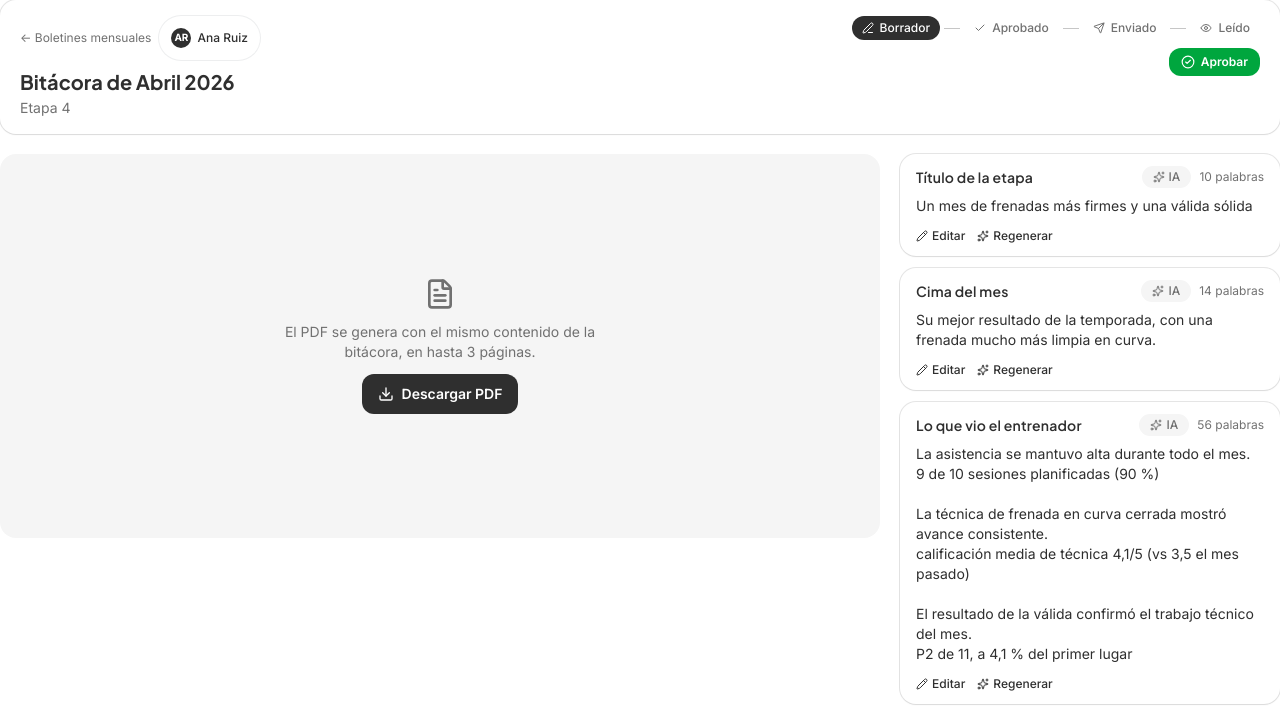
AthleteNewsletterStudioPage › editar un bloque actualiza el preview de forma optimista y dispara el PATCH
This screenshot has width=1280, height=712.
Expected: the element with test id "block-card-header" is shown, top-left (900, 154), bottom-right (1279, 256)
Click the button with test id "block-edit-header".
click(941, 236)  # box top-left (916, 228), bottom-right (965, 244)
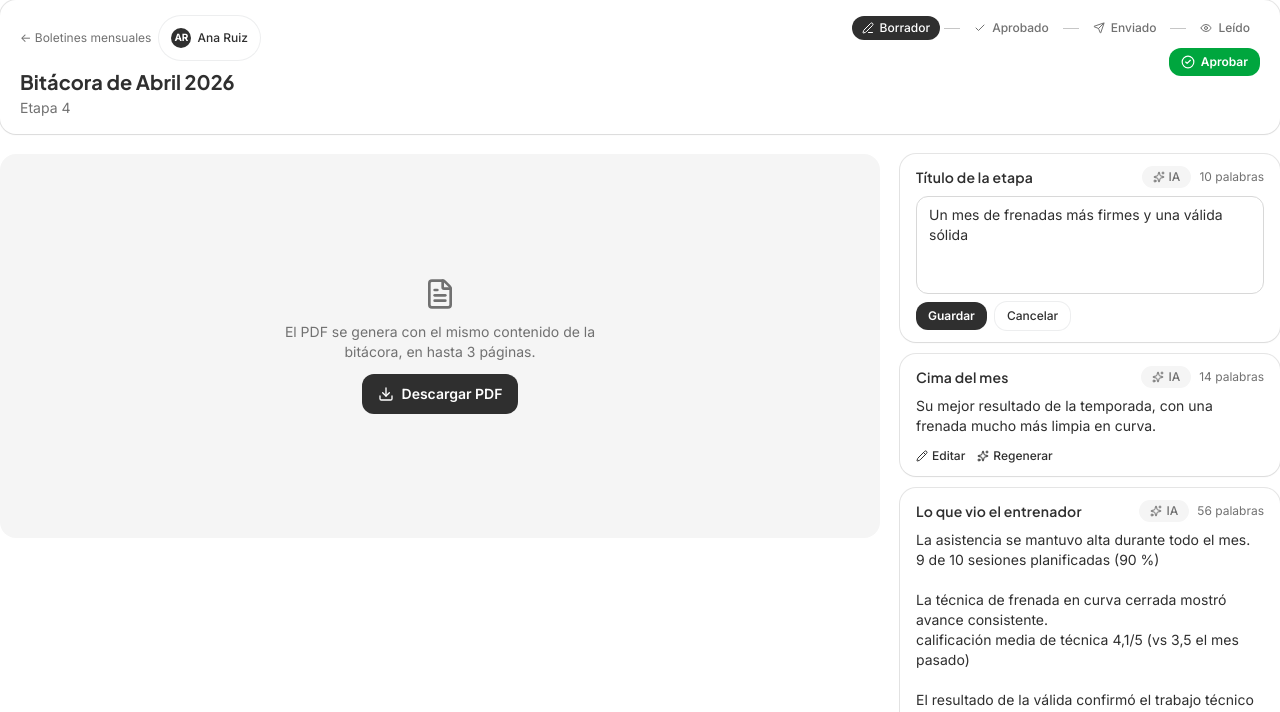
Replace the text in the text box named "Editar Título de la etapa" with "Un título editado por el coach" at (1090, 245), box top-left (916, 196), bottom-right (1264, 294)
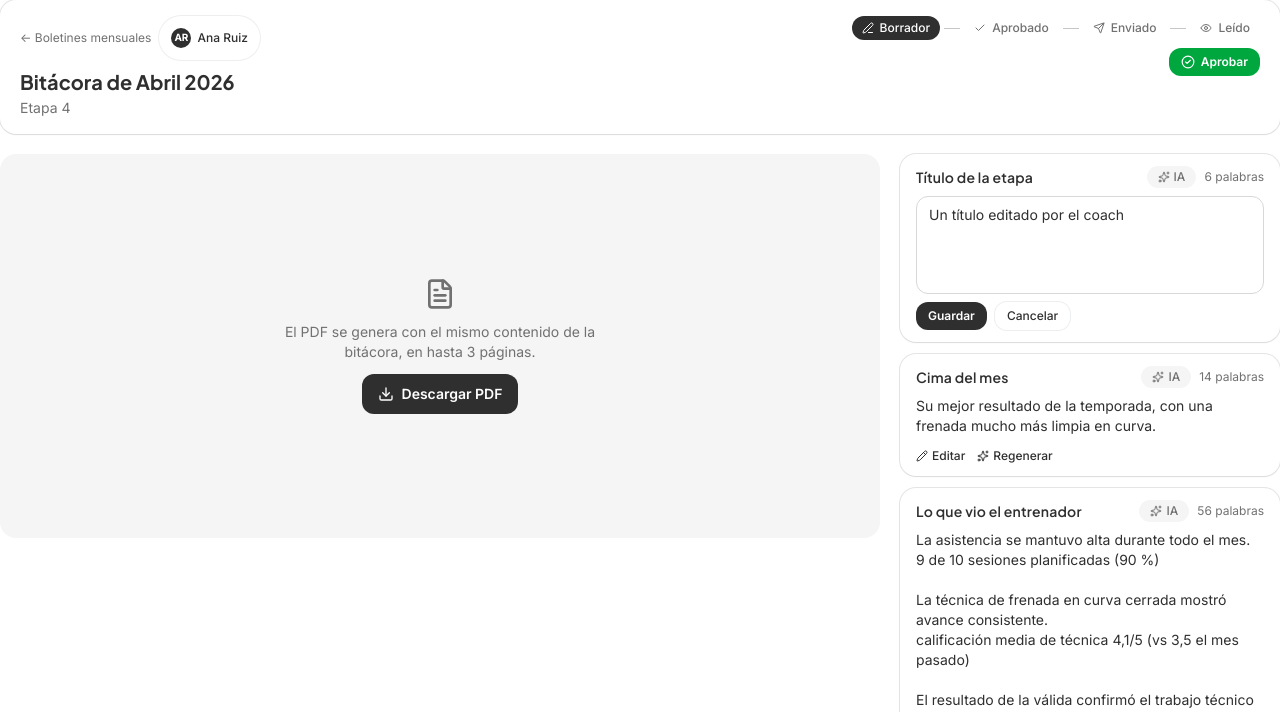
Click the button with test id "block-save-header".
click(951, 316)  # box top-left (916, 302), bottom-right (987, 330)
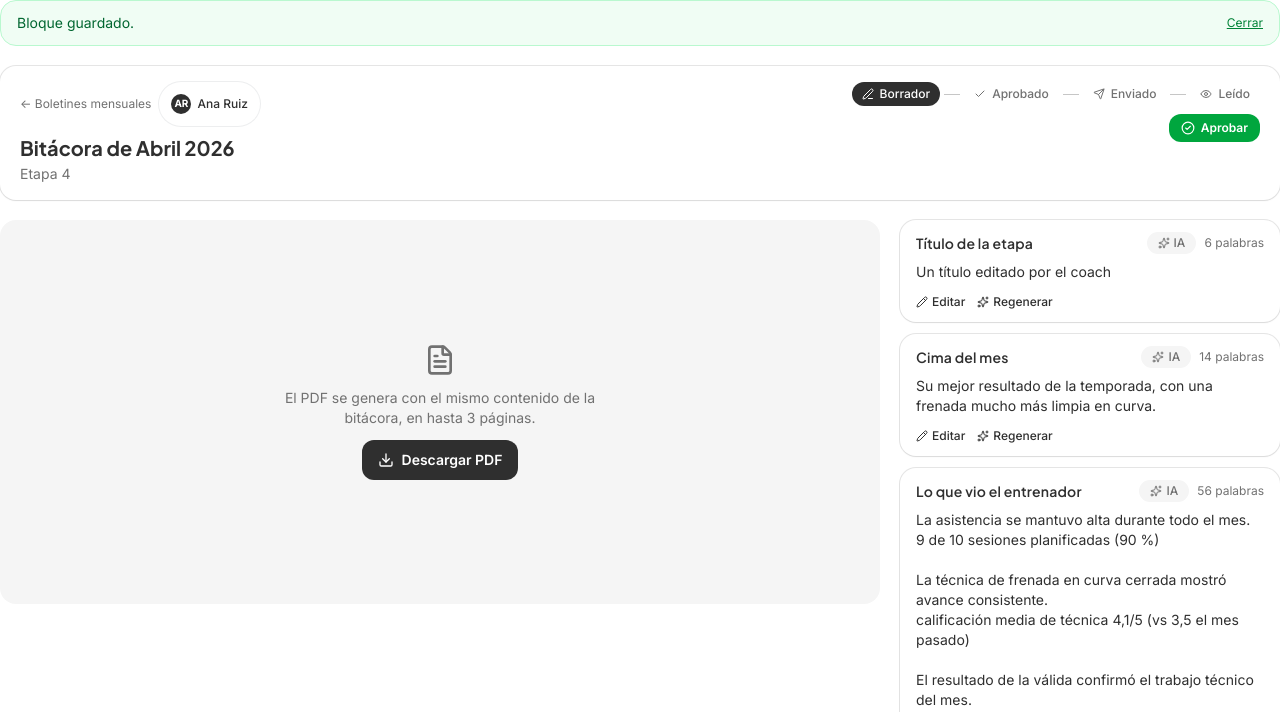
Now the element with test id "block-card-header" shows "Un título editado por el coach", box top-left (916, 263), bottom-right (1111, 280)
